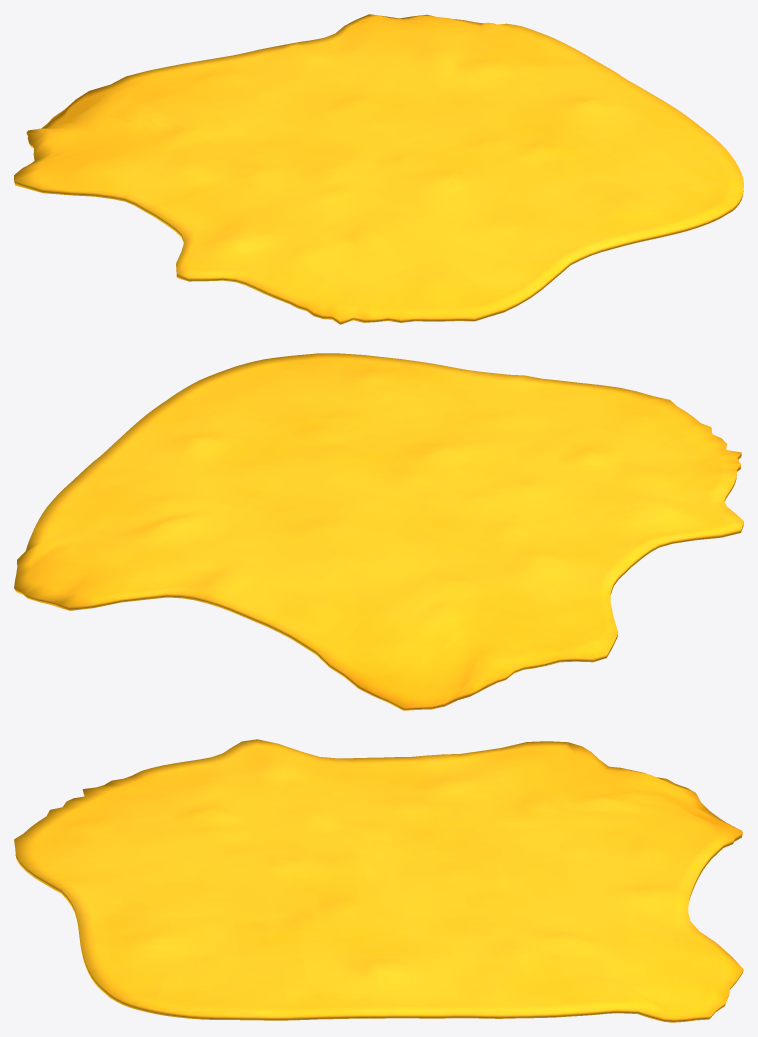
The model's file is queso-americano.glb.
3 renders of one model, top to bottom at view 1: azimuth 30°, elevation 25°; view 2: azimuth 150°, elevation 25°; view 3: azimuth 270°, elevation 25°, orthographic. The views are drawn at different scales.
Visible parts, largest first — view 1: queso-americano; view 2: queso-americano; view 3: queso-americano.
Part boxes in pixels (x1,y1,x2,y2): queso-americano: (14, 14, 743, 324); queso-americano: (14, 353, 743, 710); queso-americano: (14, 739, 743, 1022).
Bounding box in the file's own units: 2.07 × 0.2009 × 2.22.
1 material, 1 textured.
